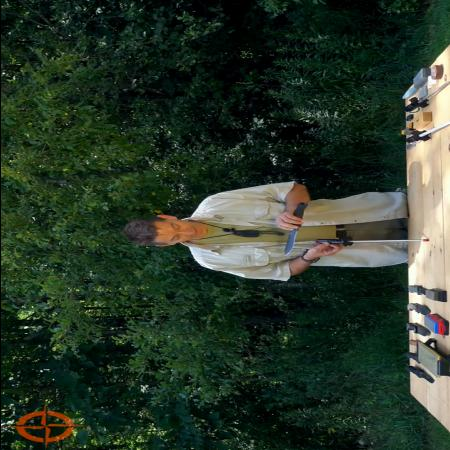long weapon: (280, 200, 310, 258)
